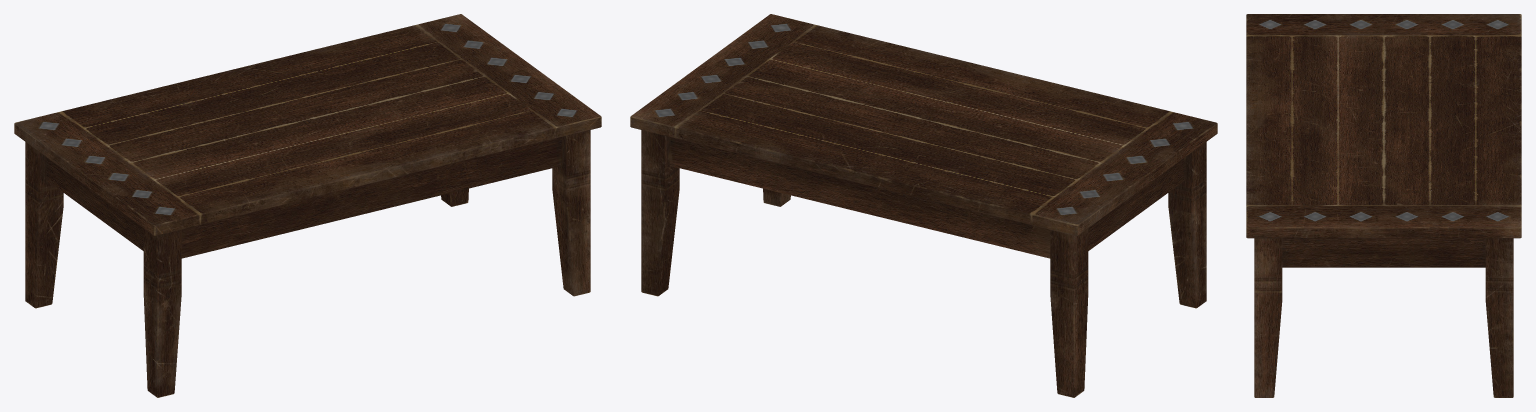
The model's file is Table1alt.glb.
3 renders of one model, left to right at view 1: azimuth 30°, elevation 25°; view 2: azimuth 150°, elevation 25°; view 3: azimuth 270°, elevation 25°, orthographic. The views are drawn at different scales.
Visible parts, largest first — view 1: table_low; view 2: table_low; view 3: table_low.
Boxes of the visible parts, <box> form: table_low: <box>14,14,601,397</box>; table_low: <box>630,14,1217,397</box>; table_low: <box>1246,14,1521,397</box>.
Bounding box in the file's own units: 1.27 × 0.48 × 0.6888.
Materials: 1 (1 with a texture image).
